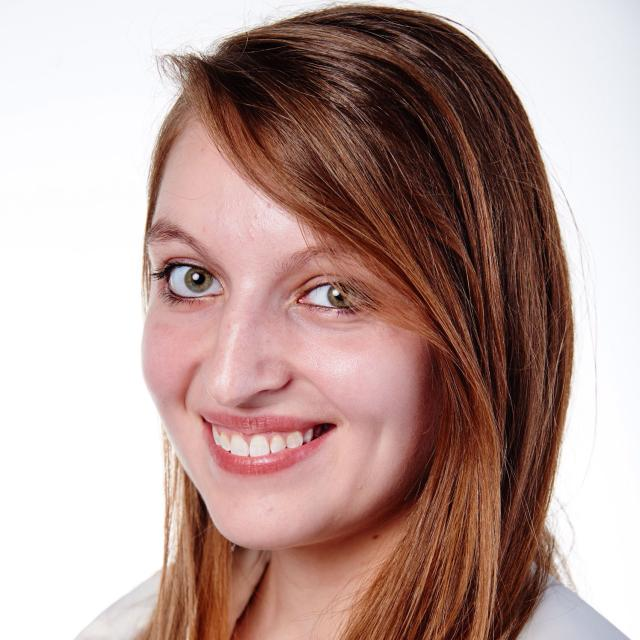mobile_phonerotation: (74, 3, 627, 638)
